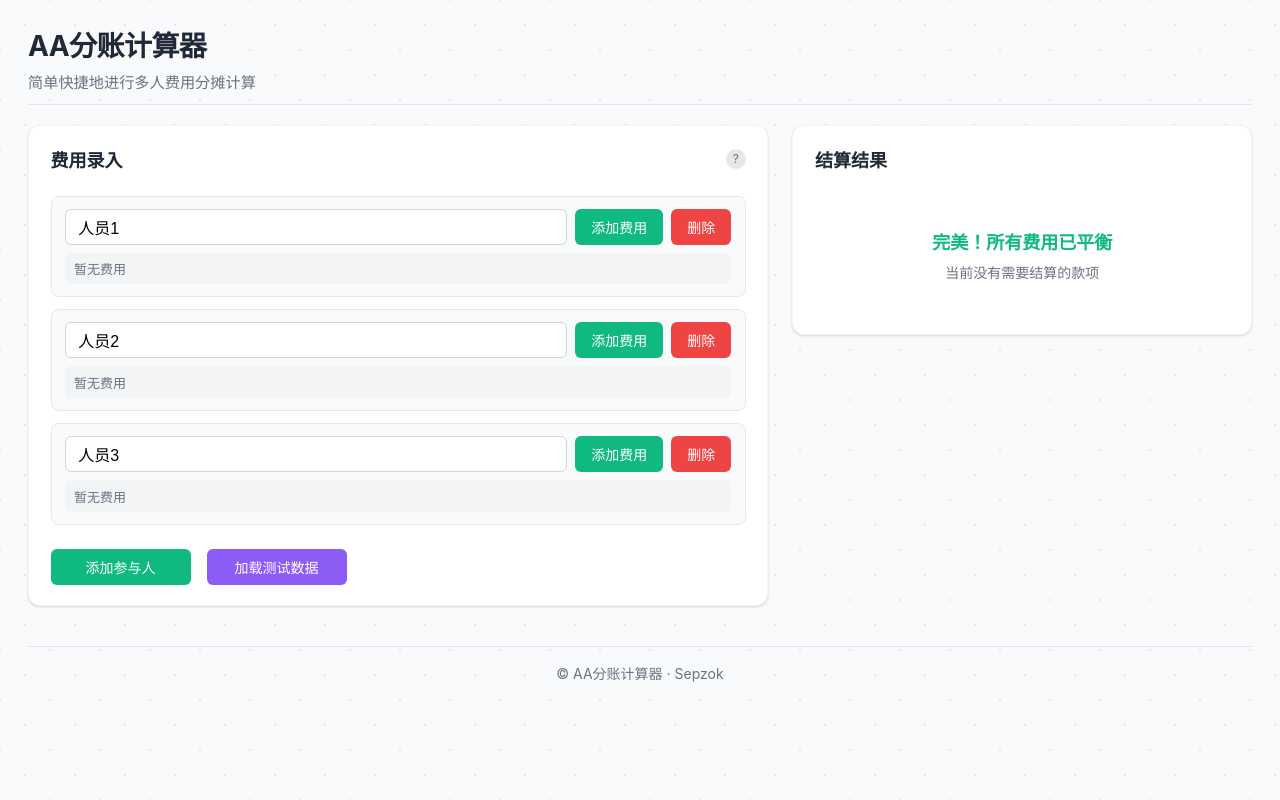
Test: AA分账计算器 - 综合测试 › 应该能够添加新参与人
The width and height of the screenshot is (1280, 800).
Note: 点击添加参与人按钮
Click the button with class "add-person-btn" at (121, 567), box [51, 549, 191, 585]
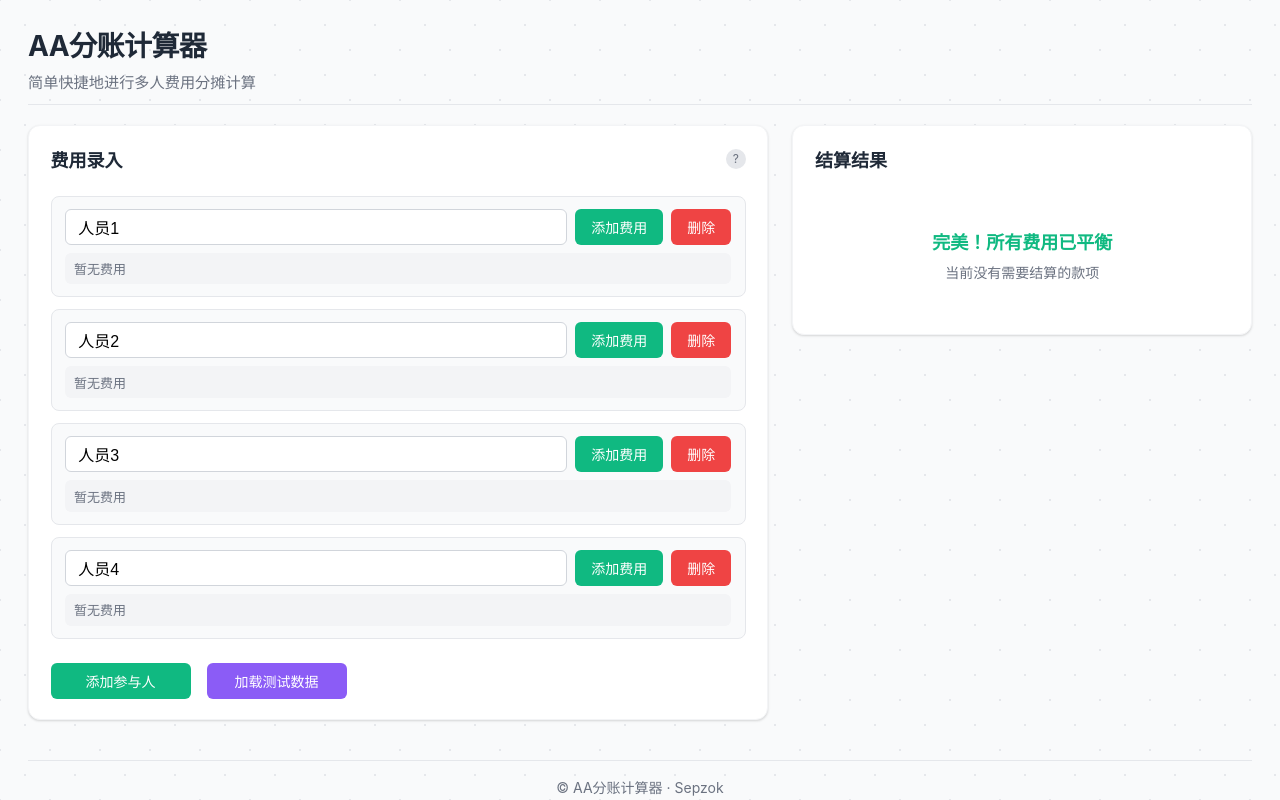
Expected: the 4th field with class "name-input" holds "人员4", [65, 550, 567, 586]
